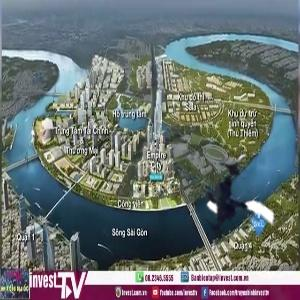drone: (183, 155, 285, 257)
